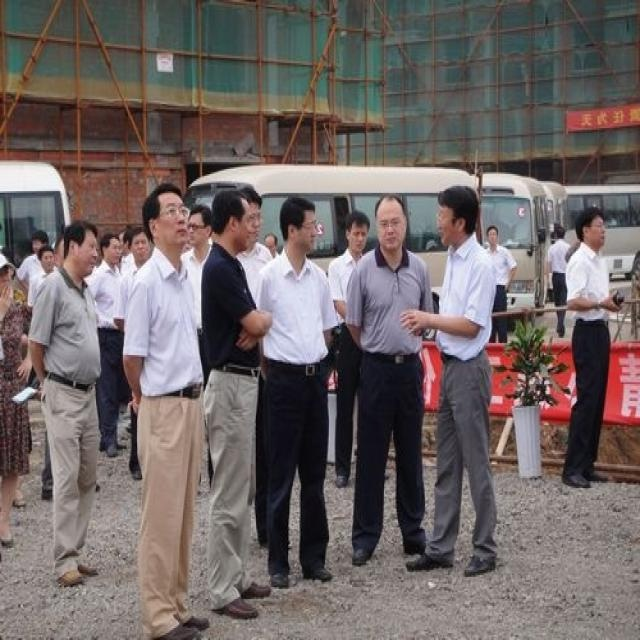Sin_Casco_Mascarrilla: (142, 182, 190, 258), (62, 221, 99, 280)
Sin_Chaleco: (346, 248, 429, 360), (257, 256, 334, 369), (432, 243, 497, 357)
